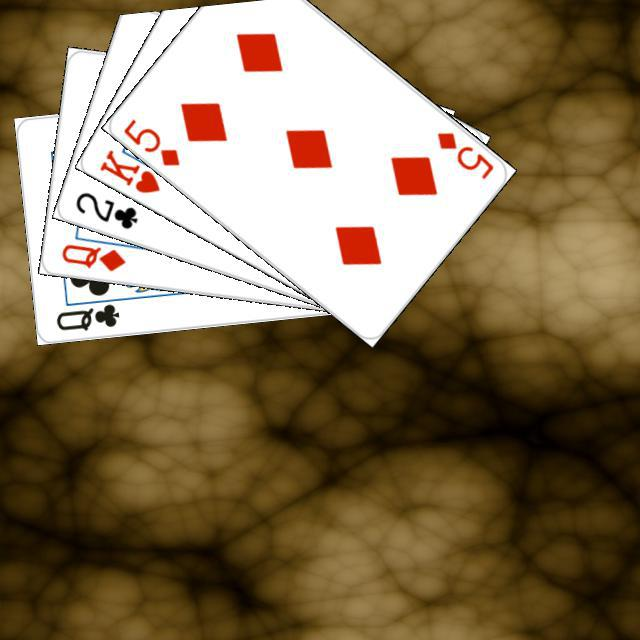2c: (70, 187, 140, 231)
5d: (431, 127, 496, 181), (118, 114, 182, 168)
Kh: (94, 141, 175, 195)
Qc: (51, 293, 126, 332)
Qd: (57, 239, 127, 273)
